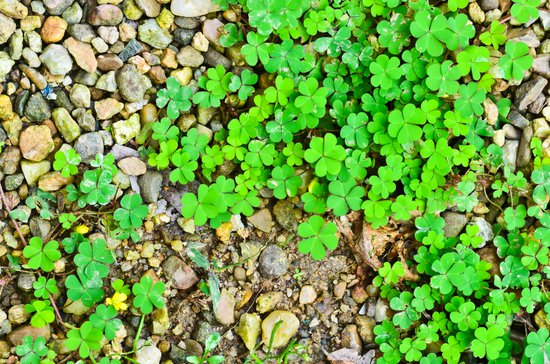oxalis: (207, 30, 521, 261), (363, 232, 550, 362), (24, 195, 149, 351)
